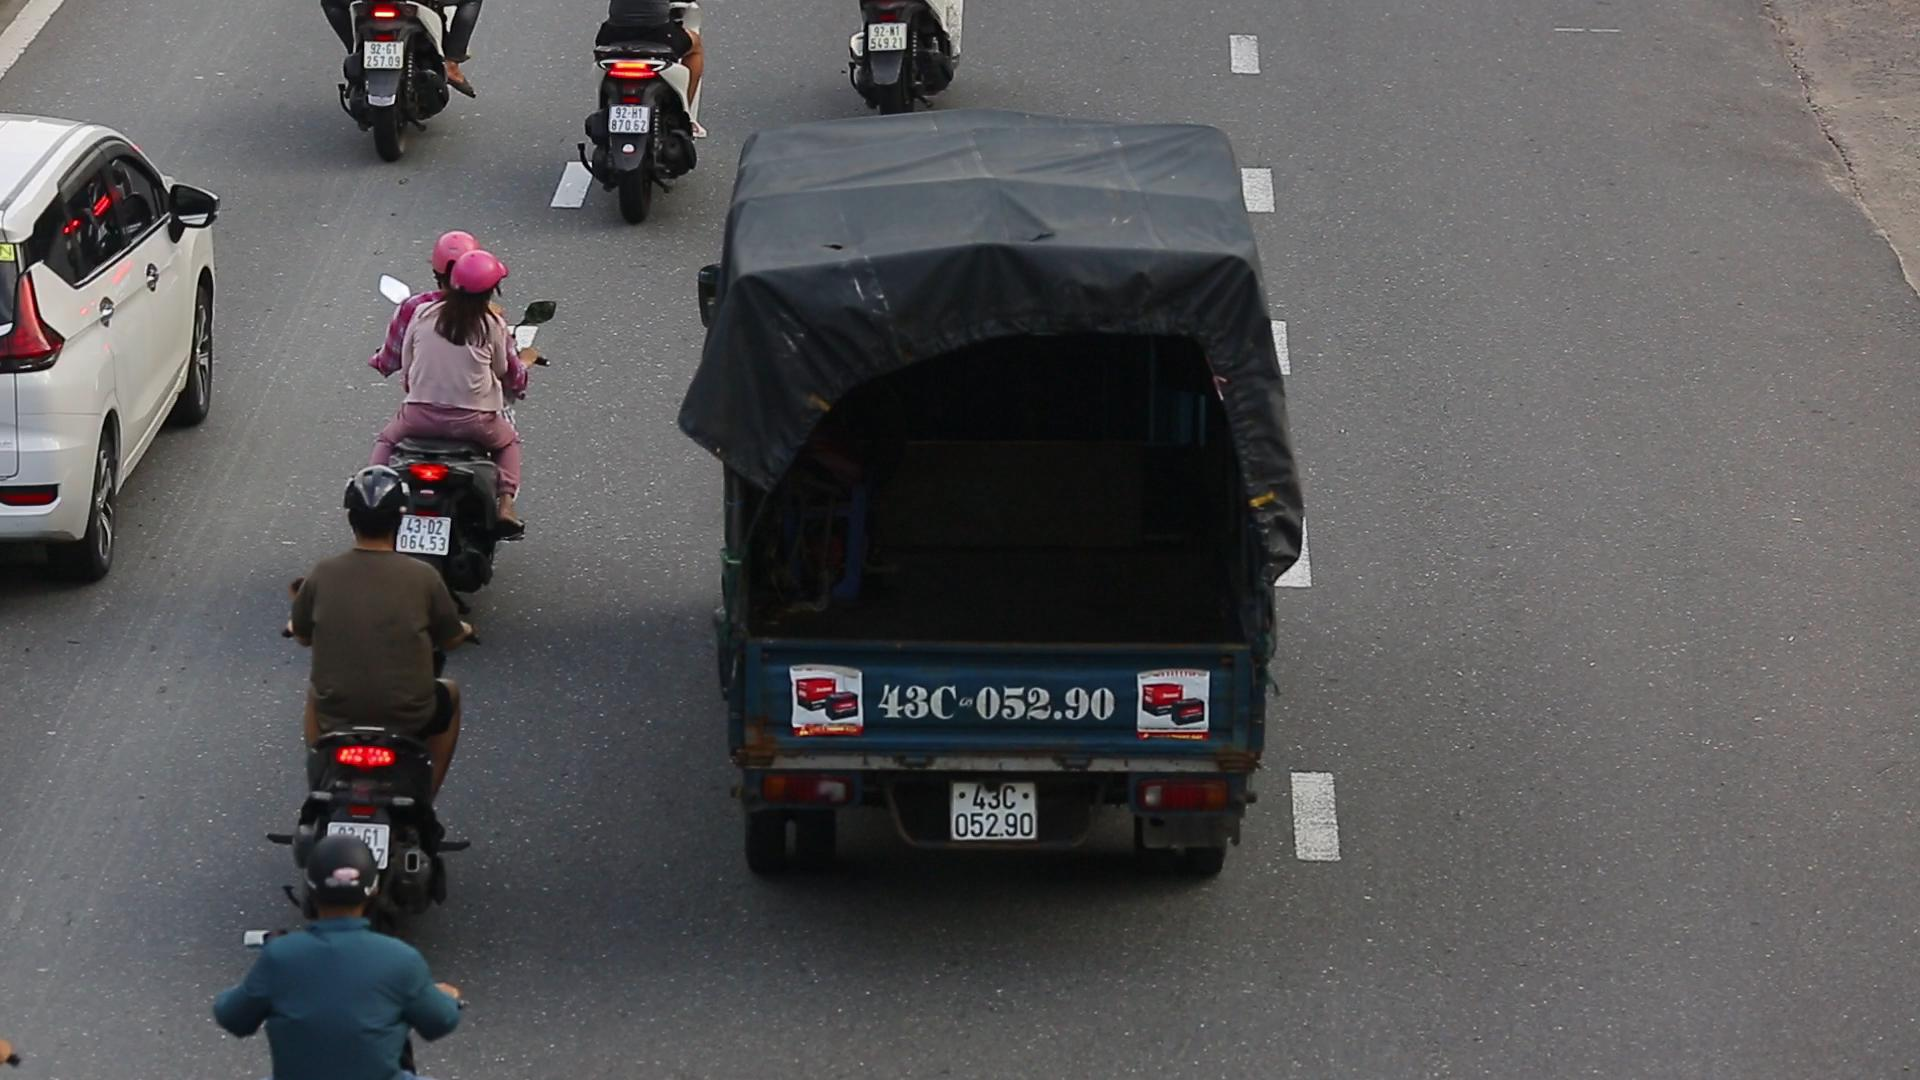motobike: (368, 210, 553, 587)
